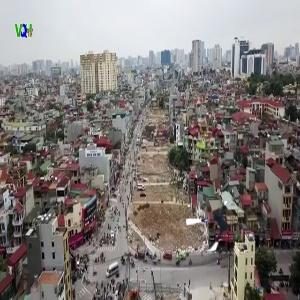drone: (186, 199, 243, 256)
